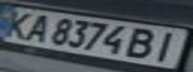3: (66, 17, 90, 50)
4: (103, 21, 133, 56)
7: (84, 19, 109, 53)
8: (42, 16, 75, 47)
A: (15, 11, 54, 43)
B: (121, 26, 163, 61)
I: (145, 29, 190, 63)
K: (0, 8, 39, 39)
